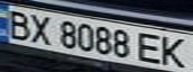0: (75, 20, 93, 53)
8: (112, 27, 136, 60), (54, 18, 78, 51), (93, 25, 115, 56)
B: (0, 7, 36, 40)
E: (136, 30, 166, 65)
K: (157, 34, 193, 70)
X: (24, 11, 57, 45)
